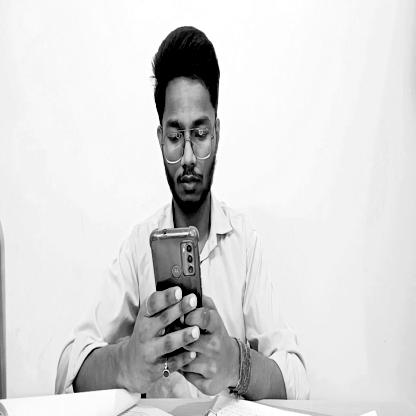Normal: (152, 27, 224, 220)
